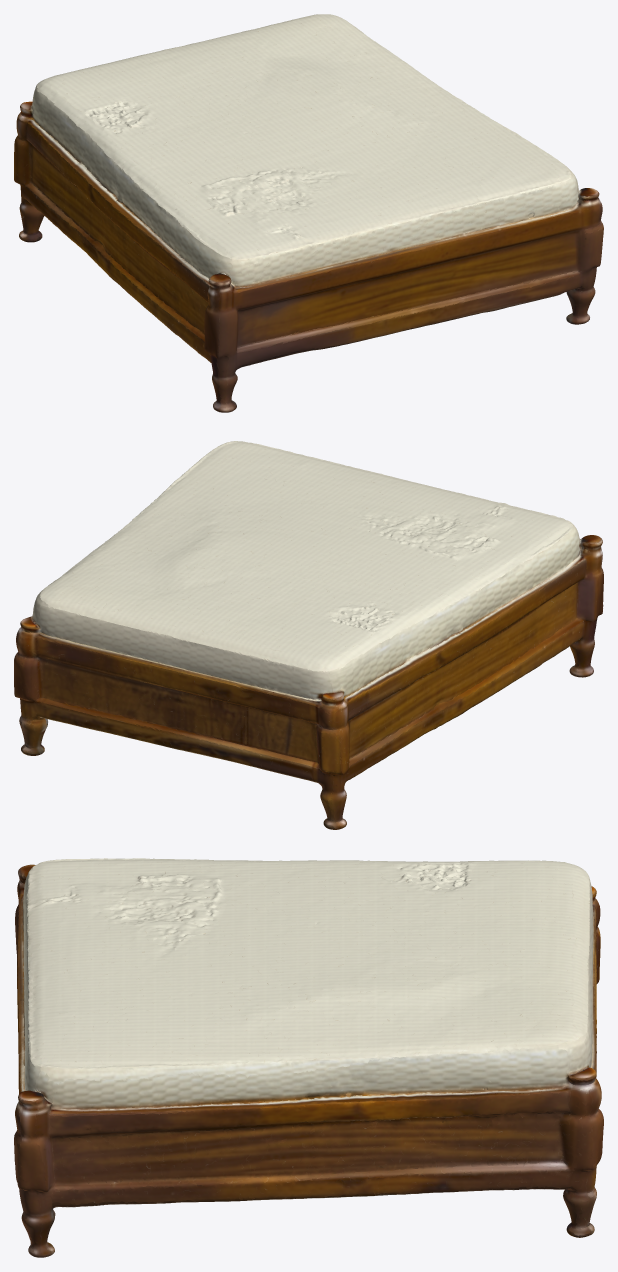
File: wood-bed-2-lux3d-original.glb
3 views of the same model, one above another, from view 1: azimuth 30°, elevation 25°; view 2: azimuth 150°, elevation 25°; view 3: azimuth 270°, elevation 25° (orthographic). The views are drawn at different scales.
Parts seen in each view (by area): view 1: geometry_0; view 2: geometry_0; view 3: geometry_0.
Part boxes in pixels (<box>): geometry_0: <box>14,14,603,412</box>; geometry_0: <box>14,441,603,829</box>; geometry_0: <box>14,858,603,1257</box>.
Bounding box in the file's own units: 2 × 0.7946 × 2.11.
Materials: 1 (1 with a texture image).
